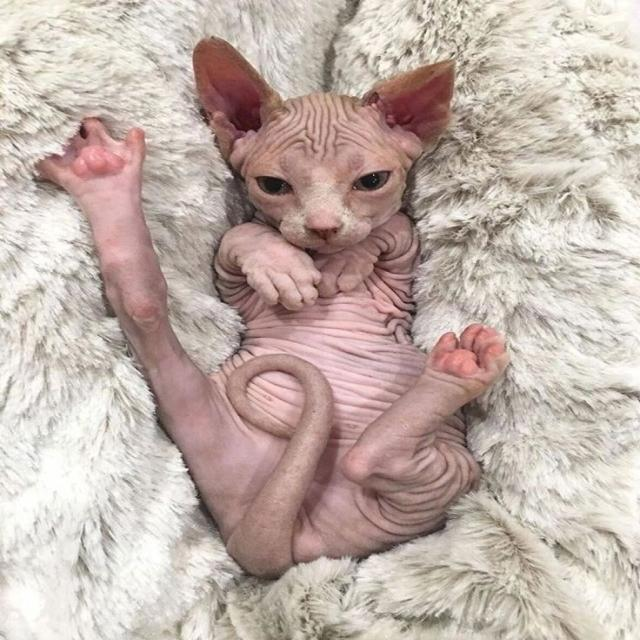cat: (16, 39, 567, 568)
